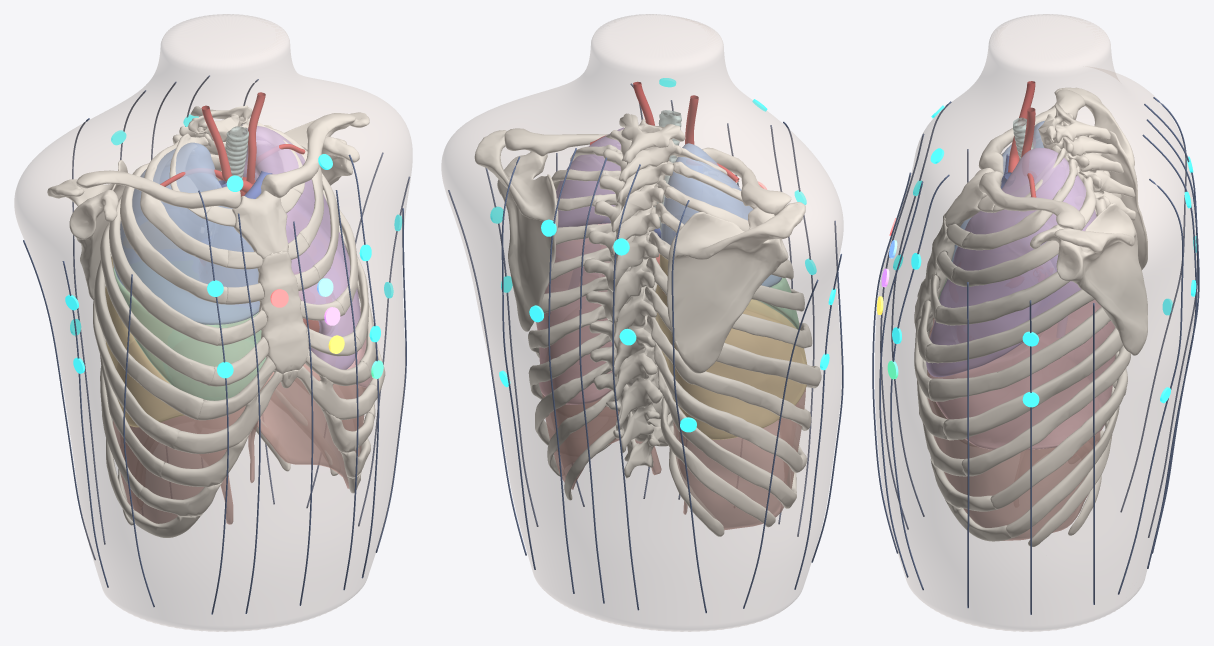
Rendered from torso_auscultacion.glb.
3 renders of one model, left to right at view 1: azimuth 30°, elevation 25°; view 2: azimuth 150°, elevation 25°; view 3: azimuth 270°, elevation 25°, orthographic. The views are drawn at different scales.
Visible parts, largest first — view 1: Piel, Diafragma, Pulmon_D_Superior, Esternon, Pulmon_I_Superior, Pulmon_D_Medio, Costillas_7_D, Costillas_6_D, Costillas_5_D, Costillas_4_D, Escapula_D, Costillas_3_D (+32 smaller); view 2: Piel, Columna, Escapula_D, Diafragma, Escapula_I, Pulmon_D_Inferior, Pulmon_I_Inferior, Costillas_9_D, Pulmon_D_Superior, Costillas_8_D, Costillas_10_D, Pulmon_I_Superior (+32 smaller); view 3: Piel, Pulmon_I_Superior, Escapula_I, Pulmon_I_Inferior, Diafragma, Columna, Costillas_7_I, Costillas_6_I, Costillas_8_I, Costillas_9_I, Costillas_5_I, Costillas_10_I (+24 smaller).
Part boxes in pixels (x1=…): Piel: x1=14, y1=14, x2=412, y2=631; Diafragma: x1=113, y1=364, x2=366, y2=524; Pulmon_D_Superior: x1=113, y1=142, x2=259, y2=324; Esternon: x1=232, y1=190, x2=308, y2=388; Pulmon_I_Superior: x1=243, y1=126, x2=360, y2=369; Pulmon_D_Medio: x1=113, y1=267, x2=266, y2=400; Costillas_7_D: x1=93, y1=284, x2=282, y2=453; Costillas_6_D: x1=94, y1=252, x2=275, y2=420; Costillas_5_D: x1=100, y1=222, x2=268, y2=386; Costillas_4_D: x1=109, y1=195, x2=266, y2=345; Escapula_D: x1=47, y1=160, x2=127, y2=299; Costillas_3_D: x1=120, y1=163, x2=264, y2=304; Piel: x1=441, y1=14, x2=843, y2=631; Columna: x1=584, y1=113, x2=685, y2=478; Escapula_D: x1=667, y1=202, x2=805, y2=373; Diafragma: x1=542, y1=389, x2=805, y2=529; Escapula_I: x1=474, y1=130, x2=558, y2=331; Pulmon_D_Inferior: x1=655, y1=254, x2=807, y2=439; Pulmon_I_Inferior: x1=536, y1=223, x2=612, y2=404; Costillas_9_D: x1=654, y1=342, x2=806, y2=472; Pulmon_D_Superior: x1=661, y1=143, x2=781, y2=287; Costillas_8_D: x1=647, y1=316, x2=811, y2=430; Costillas_10_D: x1=657, y1=367, x2=796, y2=508; Pulmon_I_Superior: x1=556, y1=127, x2=624, y2=227; Piel: x1=875, y1=14, x2=1196, y2=631; Pulmon_I_Superior: x1=926, y1=148, x2=1096, y2=377; Escapula_I: x1=1030, y1=203, x2=1147, y2=355; Pulmon_I_Inferior: x1=928, y1=299, x2=1115, y2=449; Diafragma: x1=927, y1=318, x2=1100, y2=540; Columna: x1=1038, y1=103, x2=1135, y2=438; Costillas_7_I: x1=917, y1=327, x2=1123, y2=440; Costillas_6_I: x1=914, y1=306, x2=1110, y2=401; Costillas_8_I: x1=919, y1=346, x2=1130, y2=476; Costillas_9_I: x1=930, y1=351, x2=1127, y2=511; Costillas_5_I: x1=917, y1=289, x2=1094, y2=363; Costillas_10_I: x1=945, y1=386, x2=1119, y2=541.
Size of the model in its own units: 0.4176 by 0.5799 by 0.3158.
